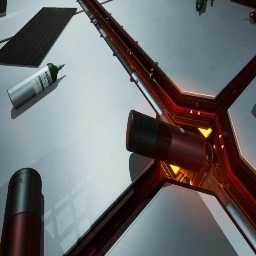0: (7, 63, 65, 110), (196, 0, 204, 10)
FireExtinguisher ]: (249, 10, 256, 23)
NitrogenTank ,: (126, 110, 214, 173), (0, 168, 42, 256)
